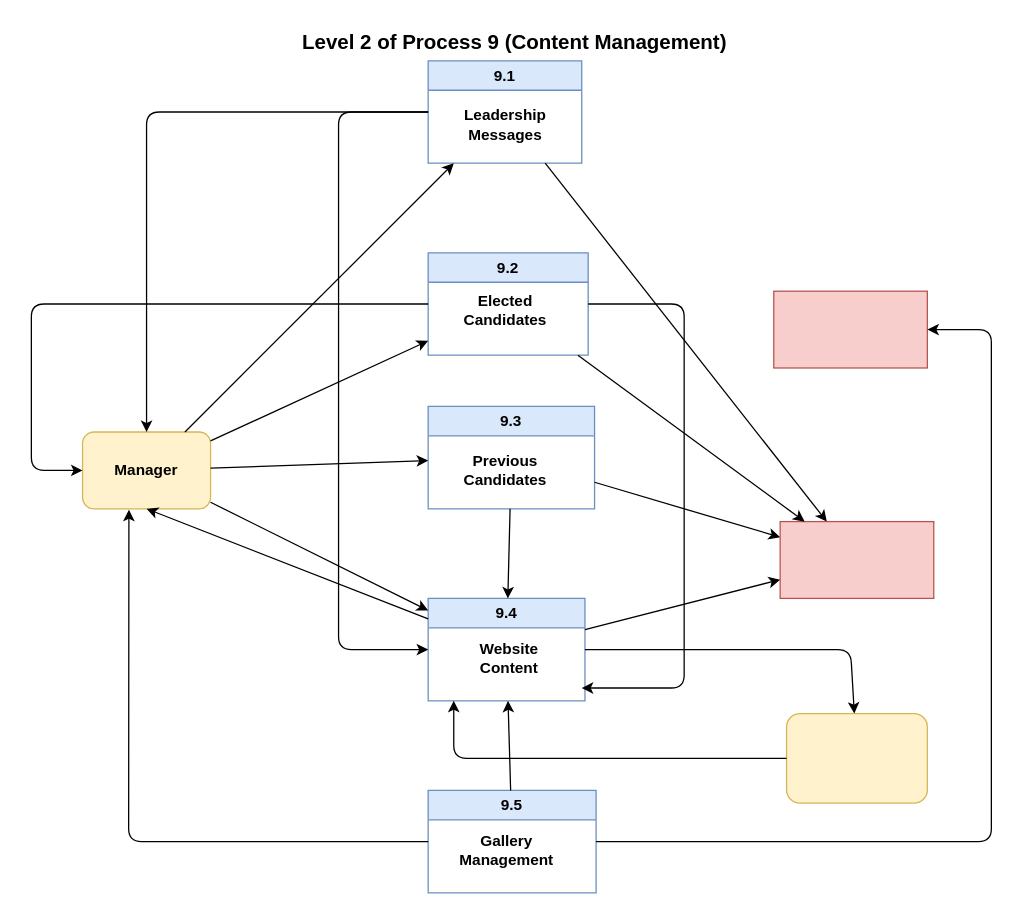
Image size: 1024x915. Some labels were removed from this diagram. The box of each missing label's shape, as (x1, y1, x2, y2) in pixels:
Content Database: (779, 520, 934, 598)
Media Storage: (772, 290, 927, 368)
Member: (785, 712, 927, 803)
